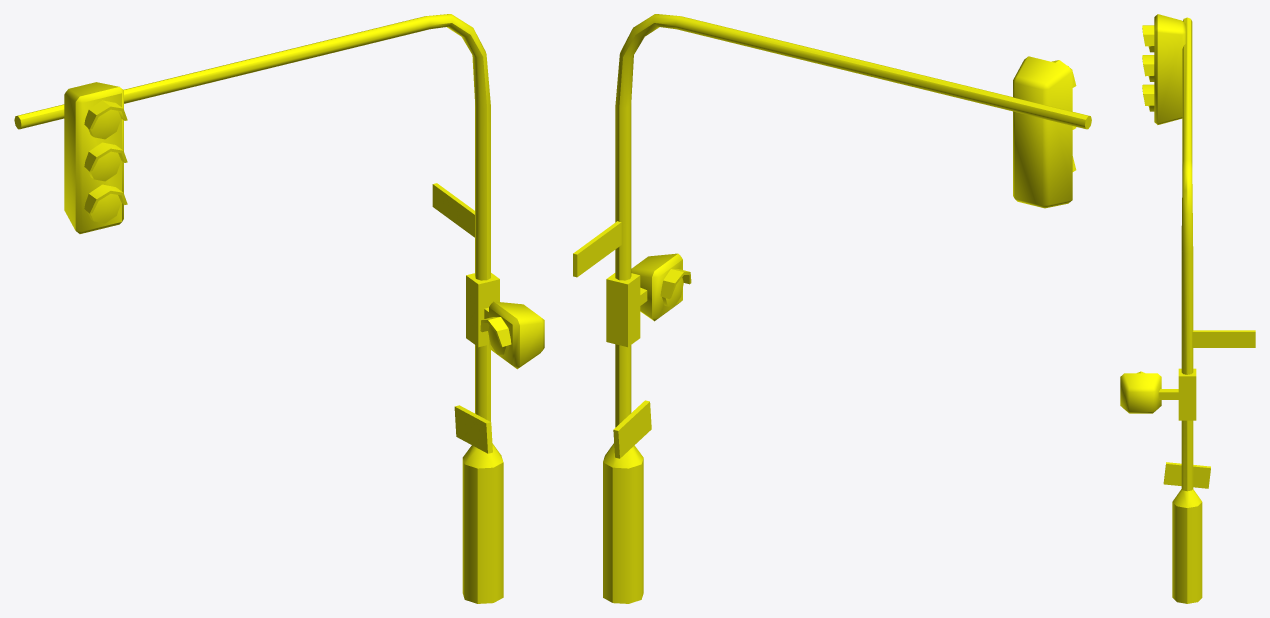
The model's file is kaykit-trafficlight-c.glb.
3 views of the same model, side by side, from view 1: azimuth 30°, elevation 25°; view 2: azimuth 150°, elevation 25°; view 3: azimuth 270°, elevation 25° (orthographic). The views are drawn at different scales.
Visible parts, largest first — view 1: trafficlight_C; view 2: trafficlight_C; view 3: trafficlight_C.
Part boxes in pixels (x1=…): trafficlight_C: x1=14, y1=14, x2=544, y2=603; trafficlight_C: x1=573, y1=14, x2=1091, y2=603; trafficlight_C: x1=1120, y1=14, x2=1255, y2=603.
Size of the model in its own units: 0.7978 by 0.9695 by 0.2716.
